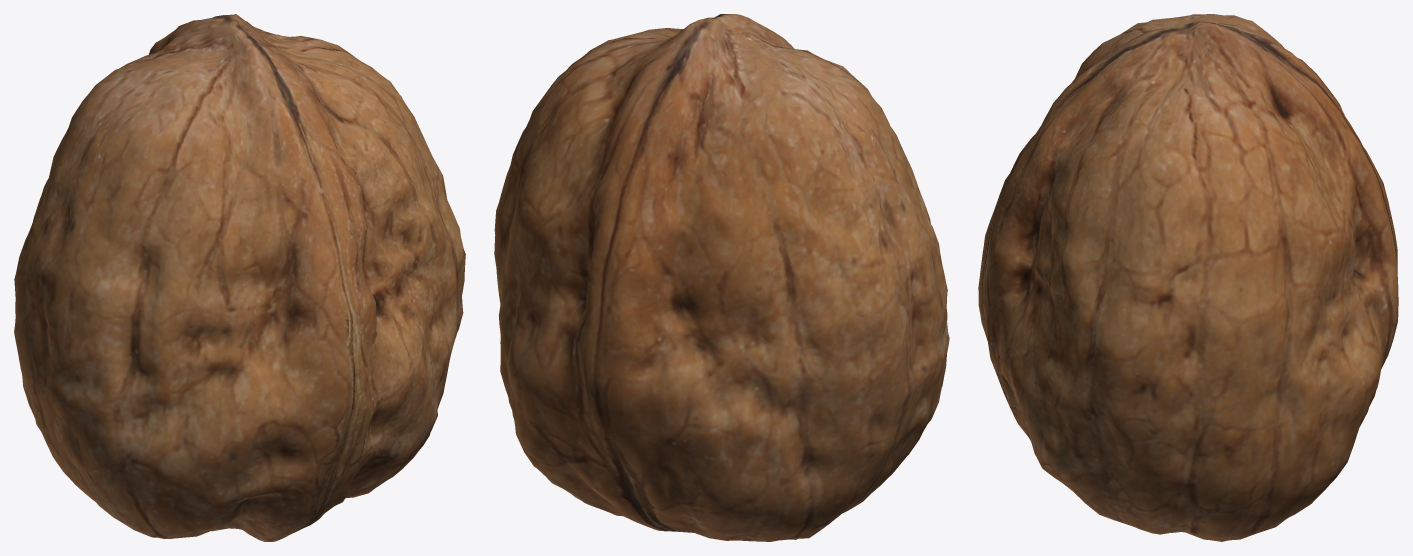
File: walnut.glb
3 renders of one model, left to right at view 1: azimuth 30°, elevation 25°; view 2: azimuth 150°, elevation 25°; view 3: azimuth 270°, elevation 25°, orthographic. The views are drawn at different scales.
Visible parts, largest first — view 1: walnut; view 2: walnut; view 3: walnut.
Part boxes in pixels (left/top/right/bottom): walnut: left=14, top=14, right=465, bottom=541; walnut: left=494, top=14, right=949, bottom=541; walnut: left=978, top=14, right=1398, bottom=541.
Size of the model in its own units: 4.17 by 4.93 by 3.82.
Materials: 1 (1 with a texture image).
